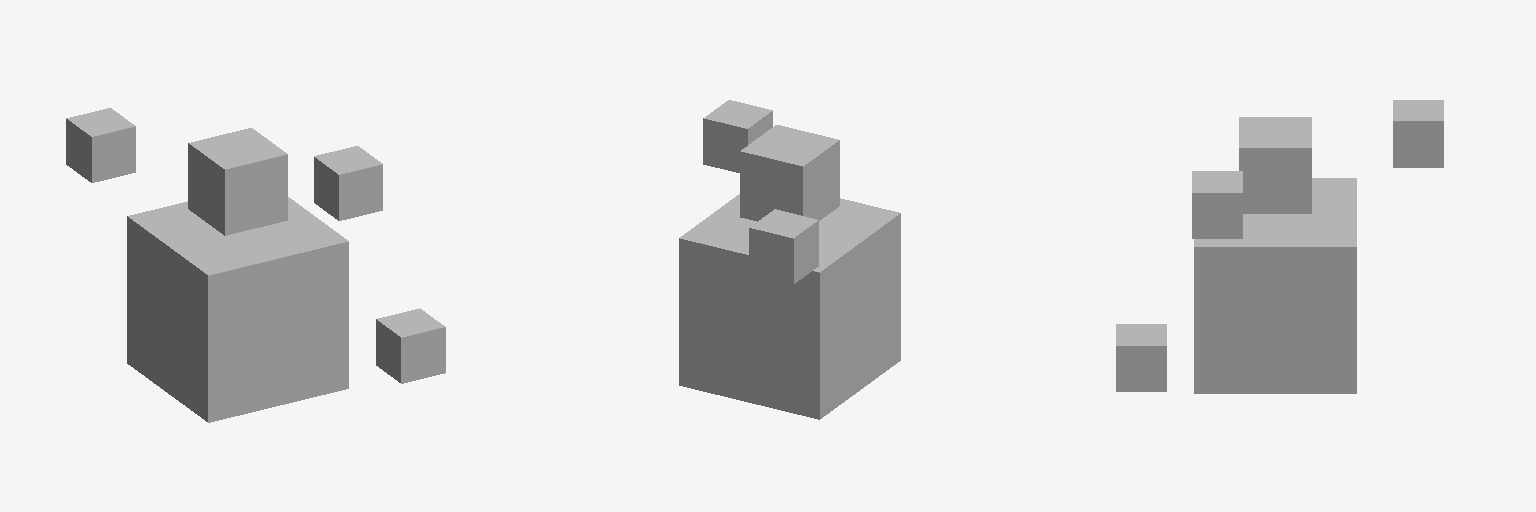
File: cubes.obj
3 views of the same model, side by side, from view 1: azimuth 30°, elevation 25°; view 2: azimuth 150°, elevation 25°; view 3: azimuth 270°, elevation 25° (orthographic).
Parts seen in each view (by area): view 1: Cube; view 2: Cube; view 3: Cube.
Part boxes in pixels (x1,y1,x2,y2): Cube: (66, 108, 445, 422); Cube: (679, 100, 900, 419); Cube: (1116, 100, 1443, 393).
Bounding box in the file's own units: 3.06 × 3.09 × 4.04.